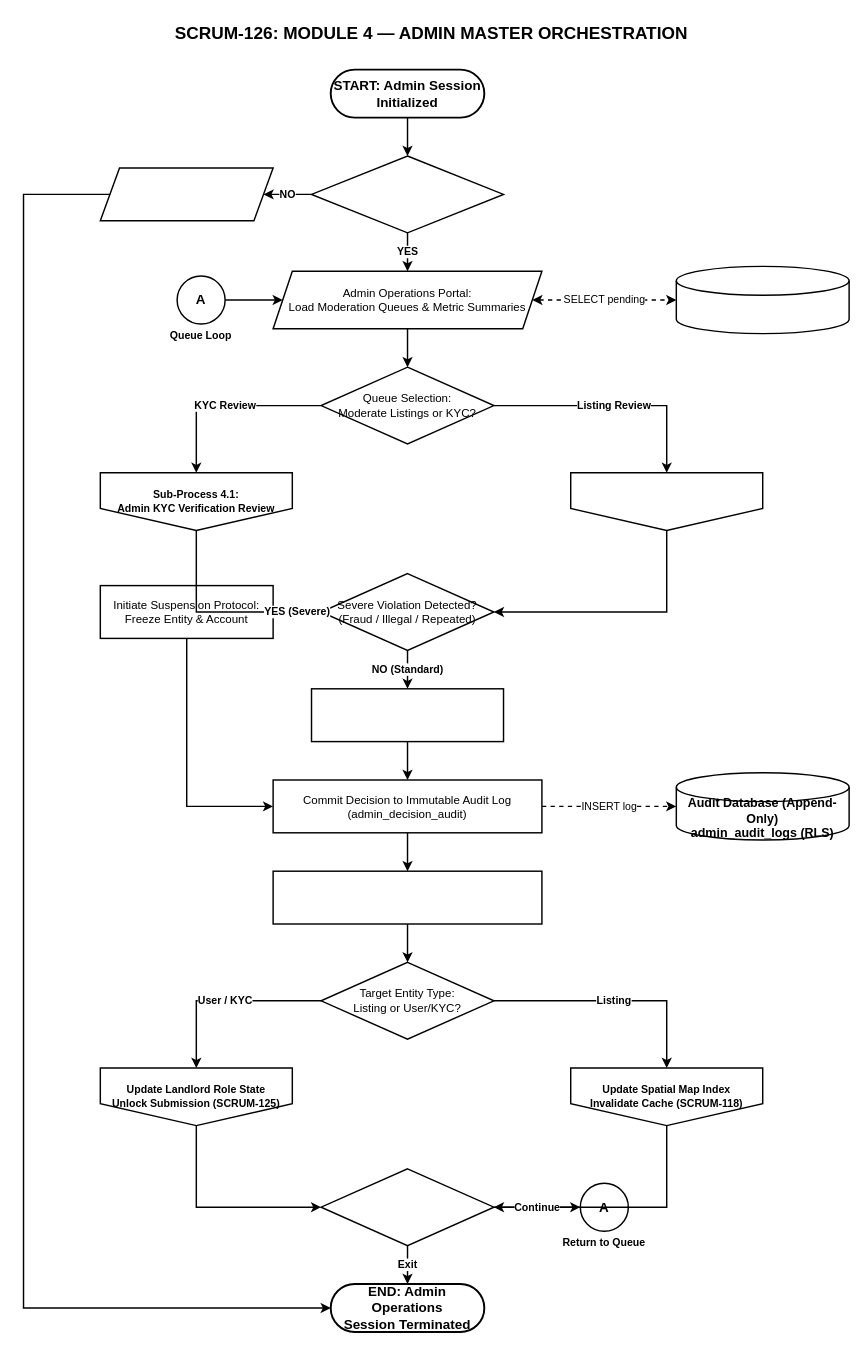
Image size: 867x1349. Some labels were removed from this diagram. Each missing label, with the centre of its shape:
403 Forbidden / Access Denied Log Security Event & Terminate: point (186, 194)
Continue Reviewing Queue or Exit Portal?: point (407, 1207)
Database (Supabase) kyc_queue / listing_queue: point (762, 299)
Dispatch Real-Time Events & Notifications (Webhooks, In-App Alerts, Email): point (407, 897)
Record Standard Approve / Reject Outcome with Justification: point (407, 715)
Sub-Process 4.2: Admin Listing Moderation Flow: point (666, 501)
User Has Admin / SuperAdmin Role & Valid JWT Claims?: point (407, 194)
